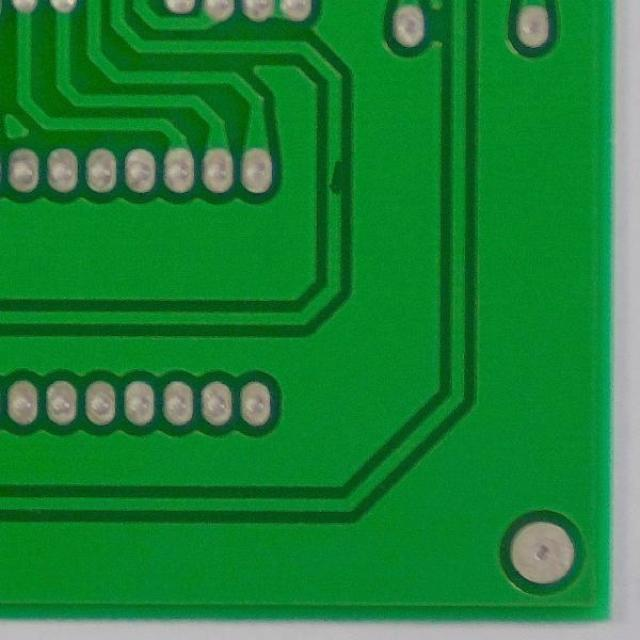MouseBite: (322, 149, 348, 203)
